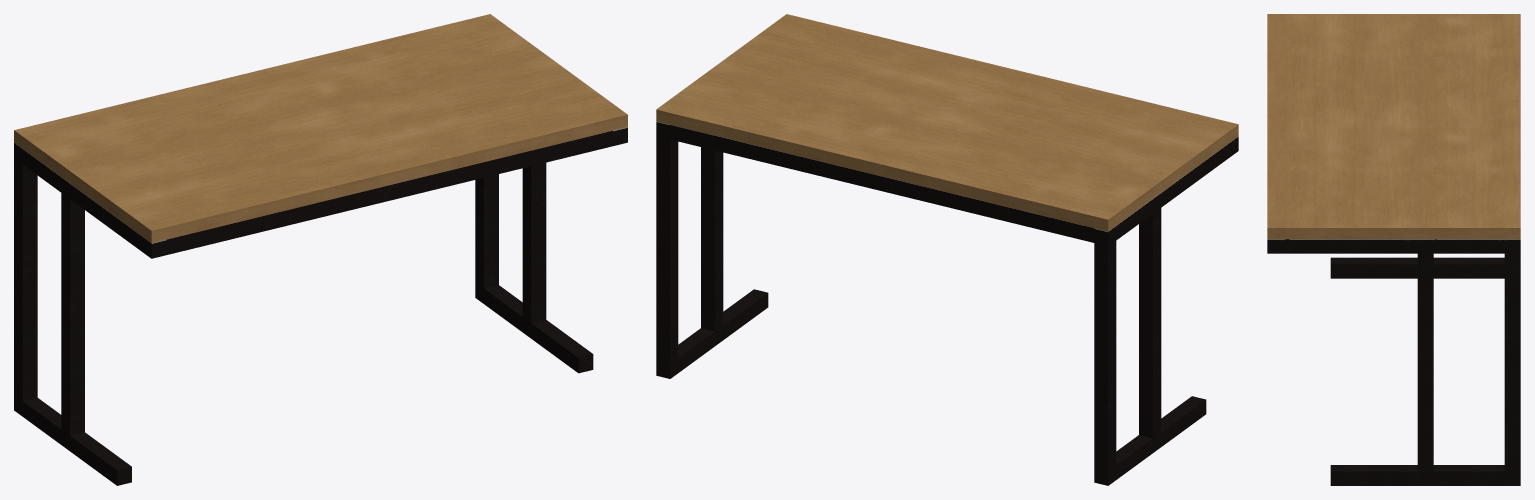
The model's file is Table.glb.
3 views of the same model, side by side, from view 1: azimuth 30°, elevation 25°; view 2: azimuth 150°, elevation 25°; view 3: azimuth 270°, elevation 25° (orthographic). The views are drawn at different scales.
Visible parts, largest first — view 1: Table_001; view 2: Table_001; view 3: Table_001.
Boxes of the visible parts, <box> form: Table_001: <box>14,14,627,485</box>; Table_001: <box>656,14,1238,485</box>; Table_001: <box>1267,14,1520,485</box>.
Size of the model in its own units: 0.8 by 0.45 by 0.4.
Materials: 1 (1 with a texture image).
